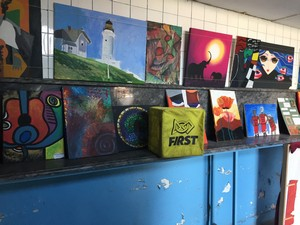cube: (149, 105, 206, 160)
